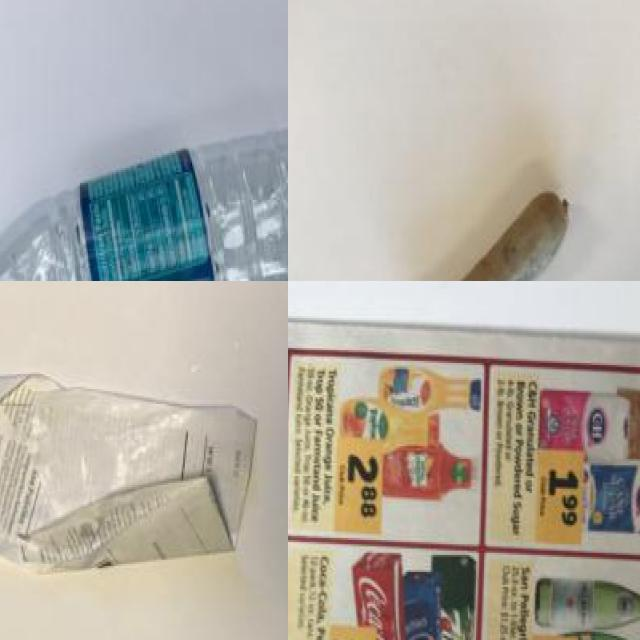compost: (357, 110, 593, 281)
paper: (288, 304, 640, 640), (0, 362, 275, 587)
plastic: (0, 141, 288, 281)
